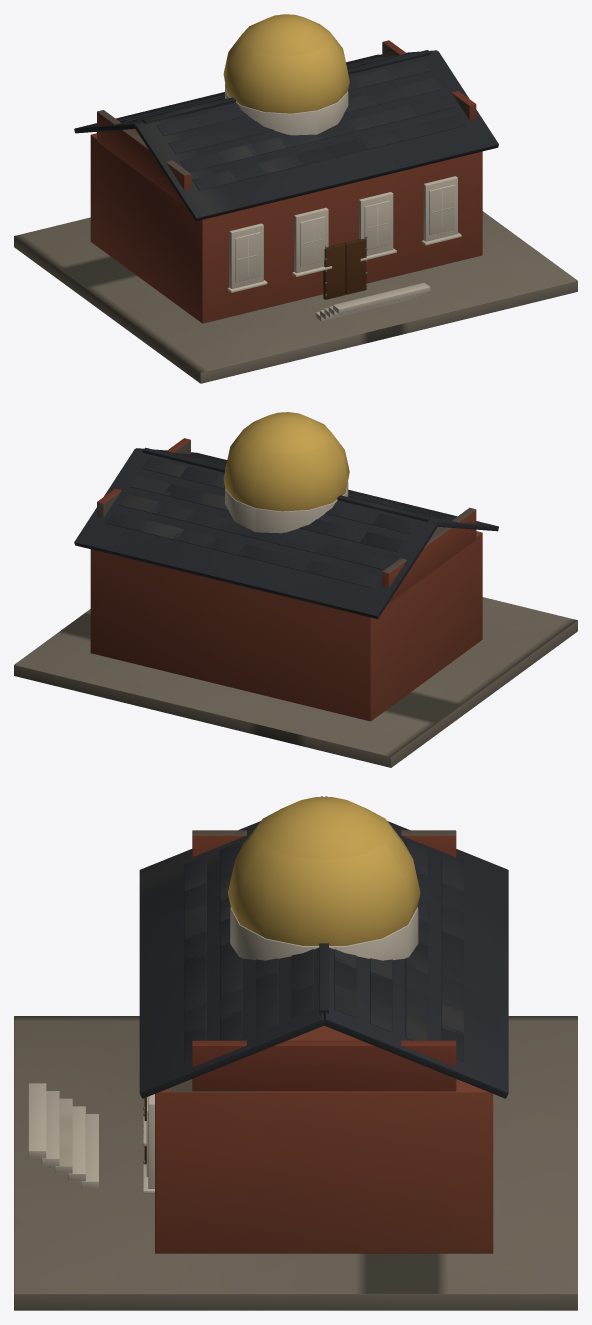
Rendered from building_university_forbidden_library.fbx.
3 views of the same model, one above another, from view 1: azimuth 30°, elevation 25°; view 2: azimuth 150°, elevation 25°; view 3: azimuth 270°, elevation 25° (orthographic). The views are drawn at different scales.
Visible parts, largest first — view 1: building_university_forbidden_library; view 2: building_university_forbidden_library; view 3: building_university_forbidden_library.
Boxes of the visible parts, <box> form: building_university_forbidden_library: <box>14,14,577,383</box>; building_university_forbidden_library: <box>14,412,577,767</box>; building_university_forbidden_library: <box>14,796,577,1310</box>.
Bounding box in the file's own units: 14 × 8.6 × 12.
